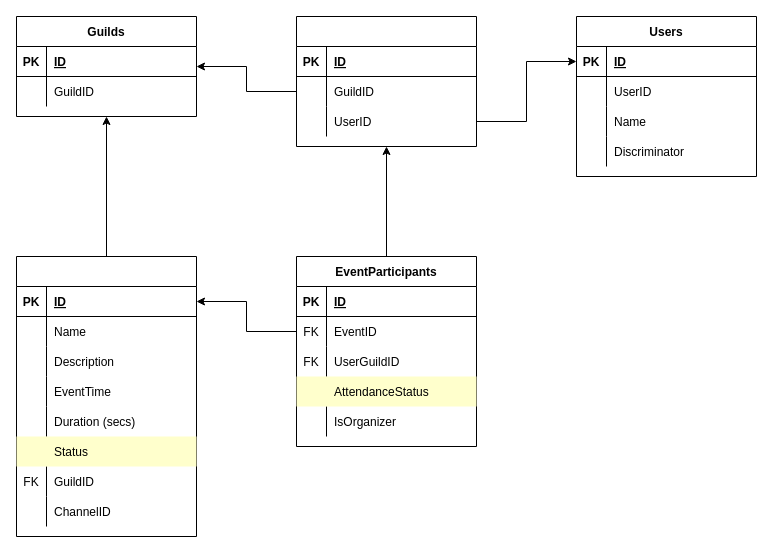
The diagram is 773 pixels wide and 553 high, and some of its shapes have lost their labels. The box of each missing label's shape, as (x1, y1, x2, y2) in pixels:
Events: (16, 256, 196, 536)
GuildToUsers: (296, 16, 476, 146)
